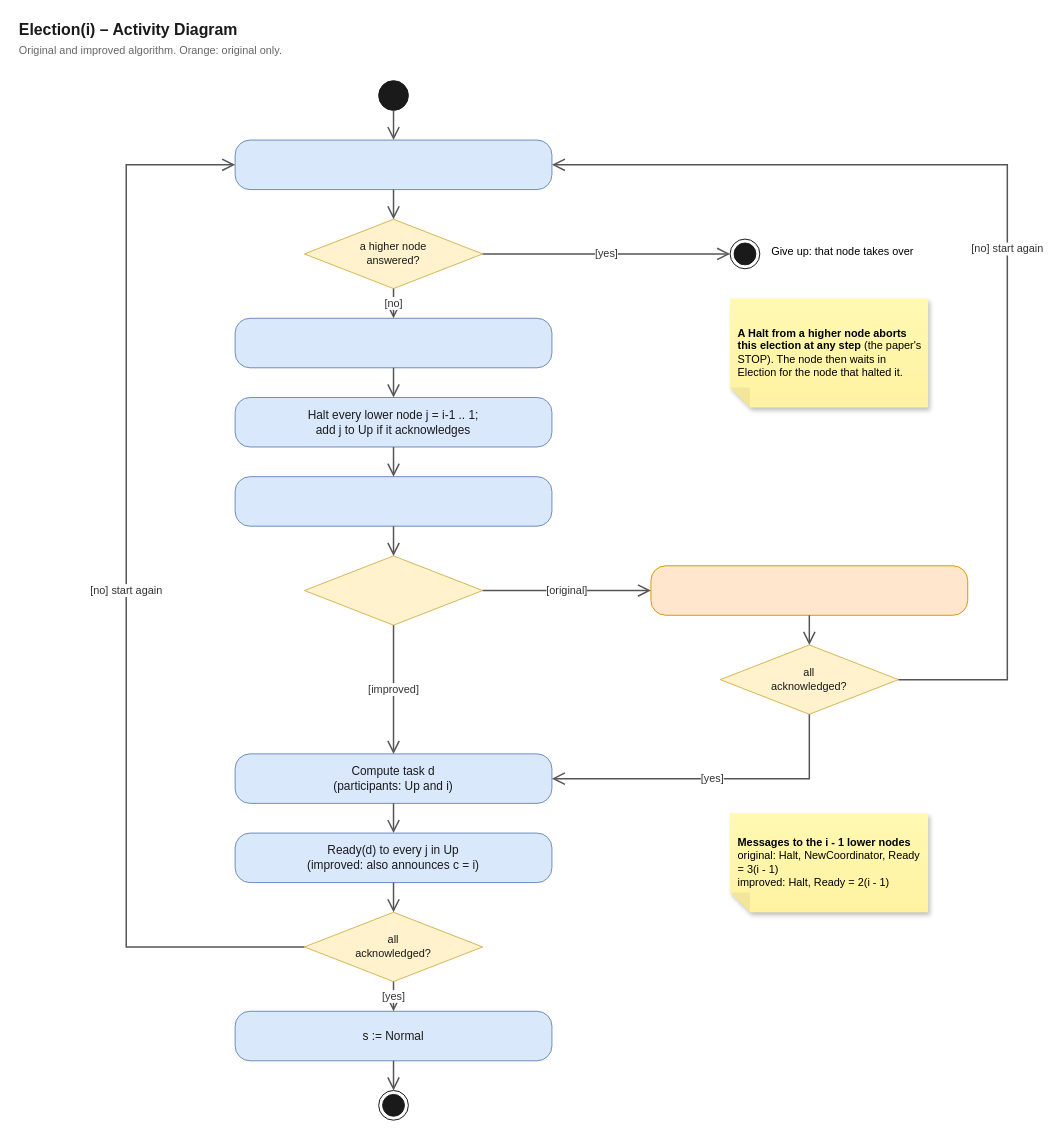
Some shapes in this 1060 by 1138 pixel diagram are drawn without their labels. Here are the shapes that lost their labels. From the top down, the centre of each, then its label:
pixel 393 164: Probe every higher node j = i+1 .. n (AreYouThere)
pixel 393 342: STOP s := Election, h := i, Up := {}
pixel 393 501: c := i, s := Reorganization (election point)
pixel 393 590: algorithm?
pixel 809 590: NewCoordinator to every j in Up
